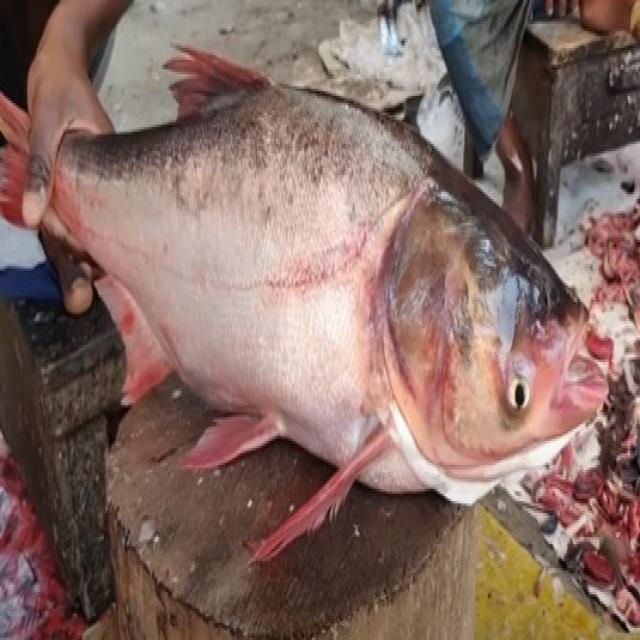Big-Head-Carp: (4, 24, 621, 585)
